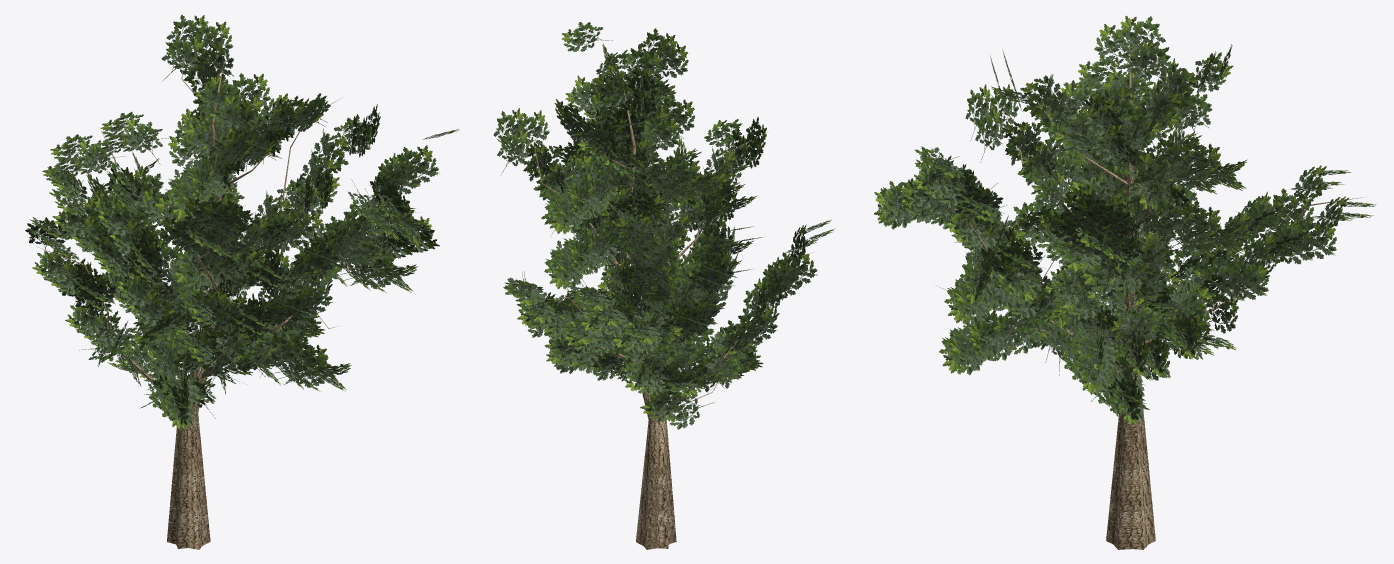
File: arbol11.fbx
3 renders of one model, left to right at view 1: azimuth 30°, elevation 25°; view 2: azimuth 150°, elevation 25°; view 3: azimuth 270°, elevation 25°, orthographic. The views are drawn at different scales.
Parts seen in each view (by area): view 1: Line001.002; view 2: Line001.002; view 3: Line001.002.
Part boxes in pixels (<box>): Line001.002: <box>25,14,459,549</box>; Line001.002: <box>493,22,835,549</box>; Line001.002: <box>874,16,1376,549</box>.
Size of the model in its own units: 697 by 906 by 785.
